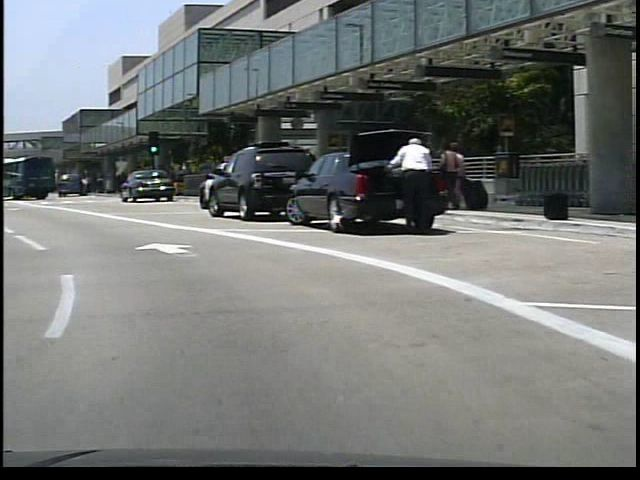person: (376, 131, 429, 236), (438, 137, 460, 215), (431, 140, 454, 214)
